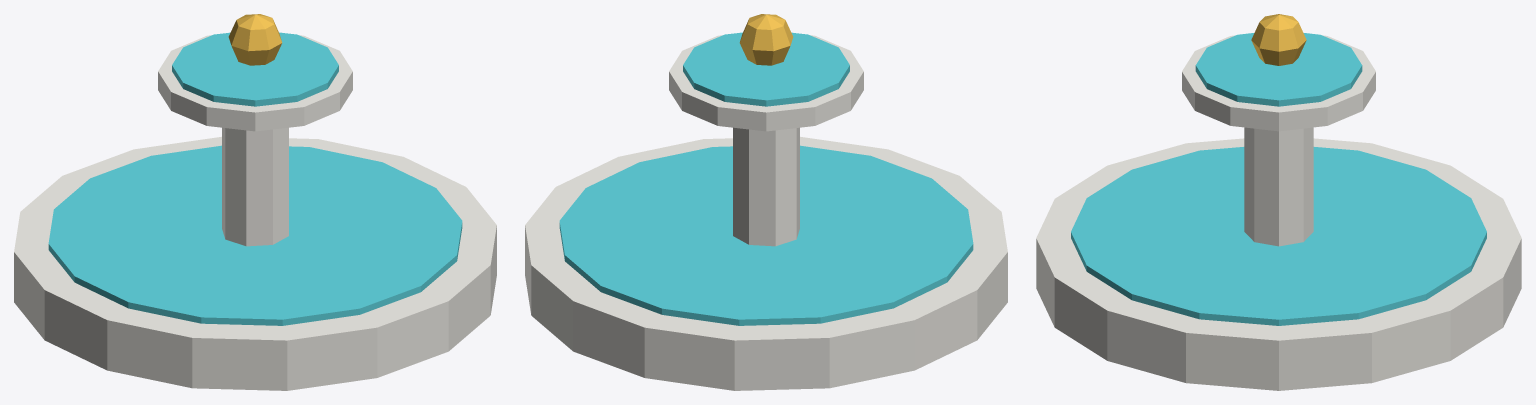
Rendered from mdl_z4_fuente.fbx.
The picture shows the model from 3 angles, left to right: view 1: azimuth 30°, elevation 25°; view 2: azimuth 150°, elevation 25°; view 3: azimuth 270°, elevation 25°; orthographic projection.
Visible parts, largest first — view 1: mdl_z4_fuente; view 2: mdl_z4_fuente; view 3: mdl_z4_fuente.
Boxes of the visible parts, bbox=[...] form: mdl_z4_fuente: bbox=[14, 14, 496, 390]; mdl_z4_fuente: bbox=[525, 14, 1007, 390]; mdl_z4_fuente: bbox=[1036, 14, 1521, 390].
Bounding box in the file's own units: 700 × 435 × 700.
